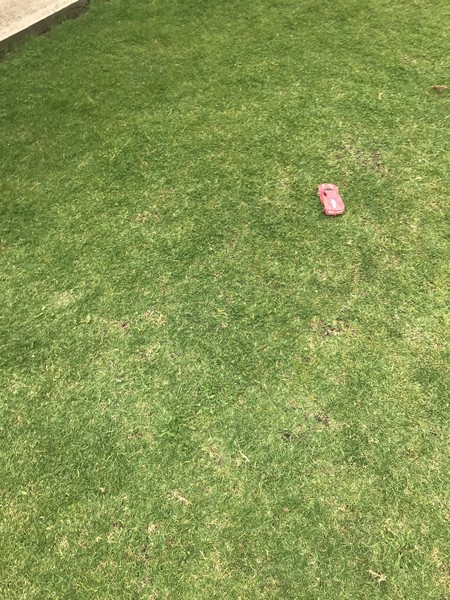RC: (314, 180, 346, 217)
